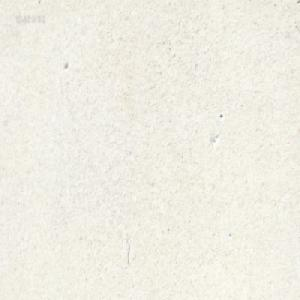Wrench: (131, 0, 137, 4)
